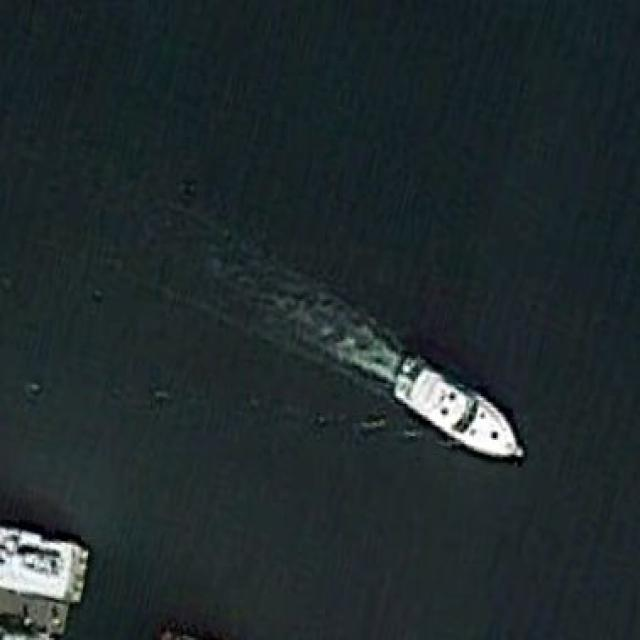boat: (388, 352, 522, 461)
